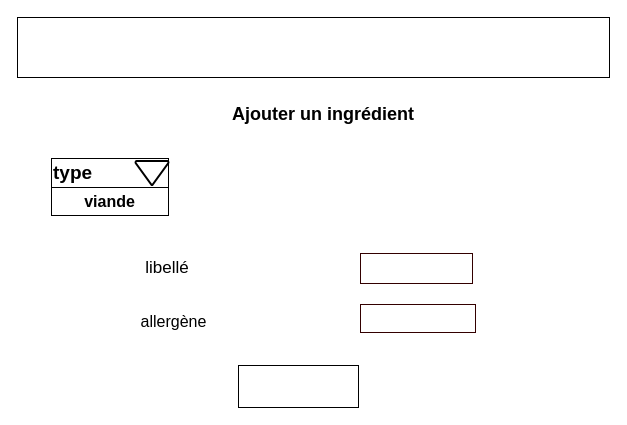
Image size: 627x425. Some labels were removed from this diagram. The shapes that lost their labels are listed below. From the top down, each one's centre as x and y in pixels, then its label:
At (x=313, y=47): "Gestion des ingrédients".
At (x=298, y=386): "ajouter".
